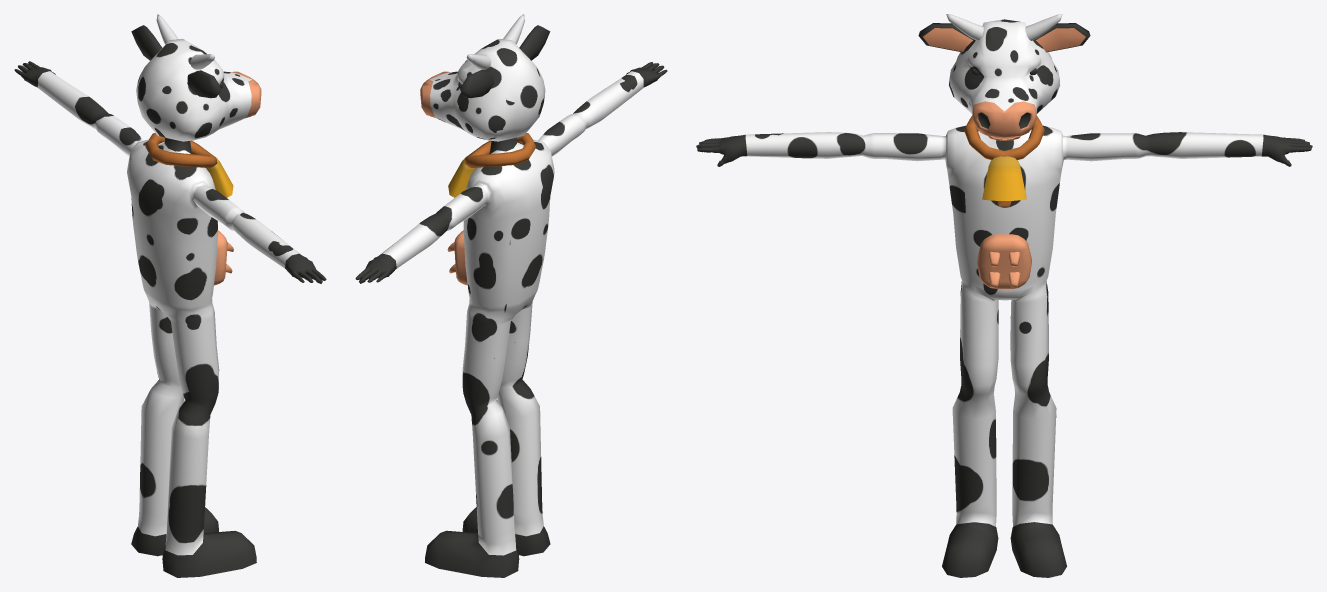
Rendered from CowCharacter.glb.
3 renders of one model, left to right at view 1: azimuth 30°, elevation 25°; view 2: azimuth 150°, elevation 25°; view 3: azimuth 270°, elevation 25°, orthographic. The views are drawn at different scales.
Parts seen in each view (by area): view 1: _100Avatars_190_CoolCow; view 2: _100Avatars_190_CoolCow; view 3: _100Avatars_190_CoolCow.
Boxes of the visible parts, x1=… form: _100Avatars_190_CoolCow: x1=14, y1=14, x2=326, y2=577; _100Avatars_190_CoolCow: x1=355, y1=14, x2=667, y2=577; _100Avatars_190_CoolCow: x1=696, y1=14, x2=1312, y2=577.
Bounding box in the file's own units: 1.17 × 4.98 × 5.16.
1 material, 1 textured.
